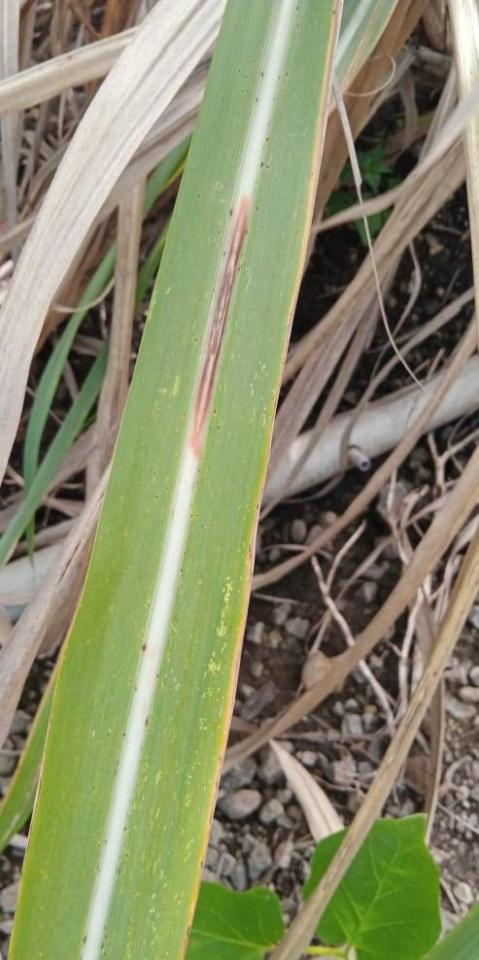RedRot: (187, 196, 251, 458)
